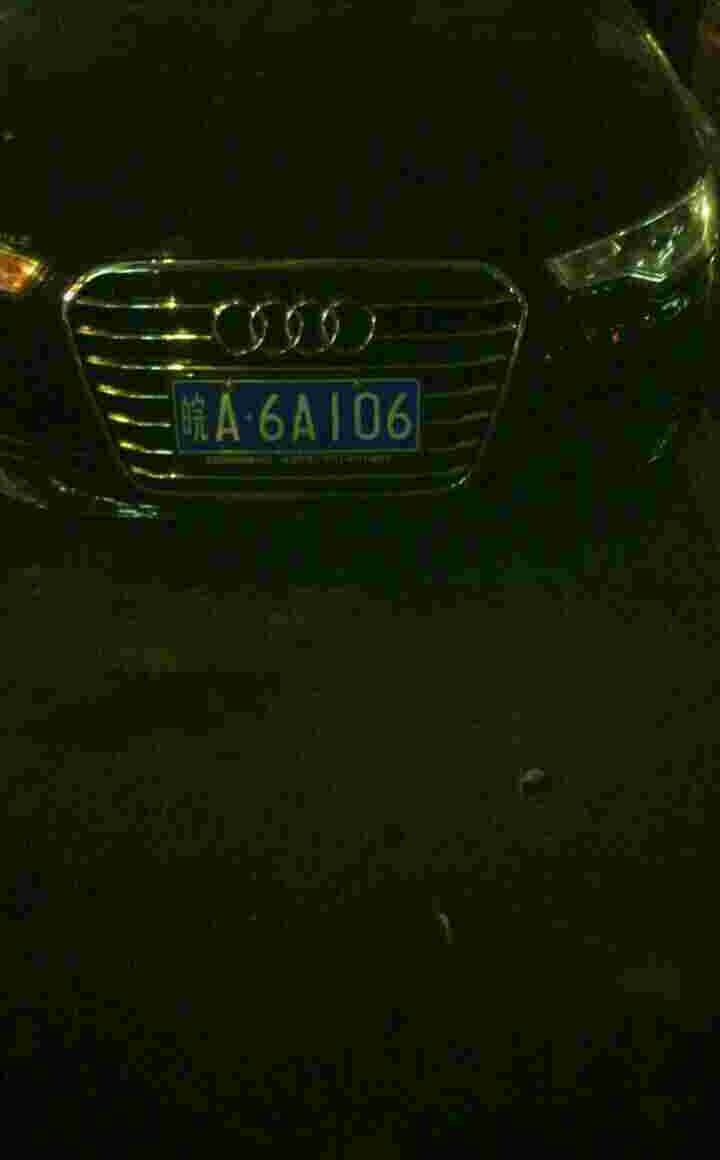plate: (175, 377, 427, 457)
